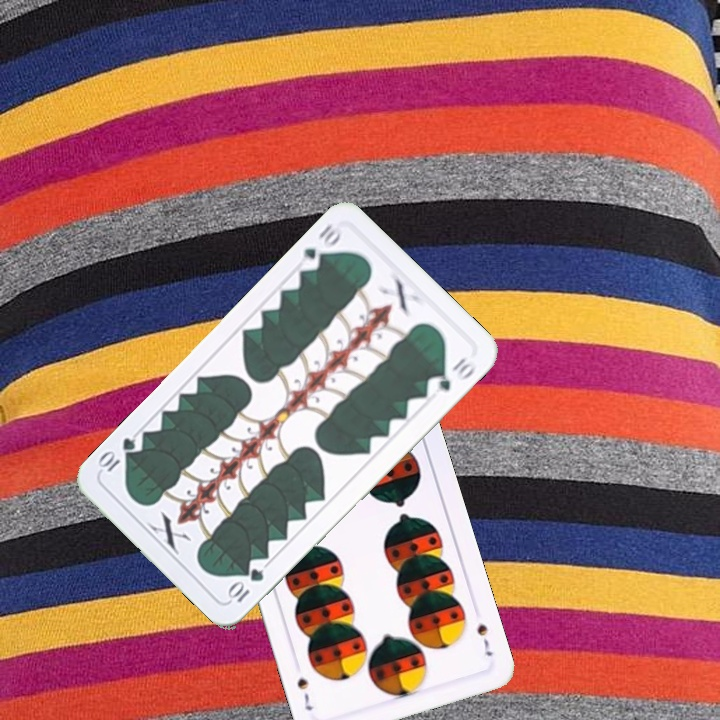G10: (295, 220, 344, 274), (224, 564, 267, 605)
S7: (473, 619, 496, 659)
